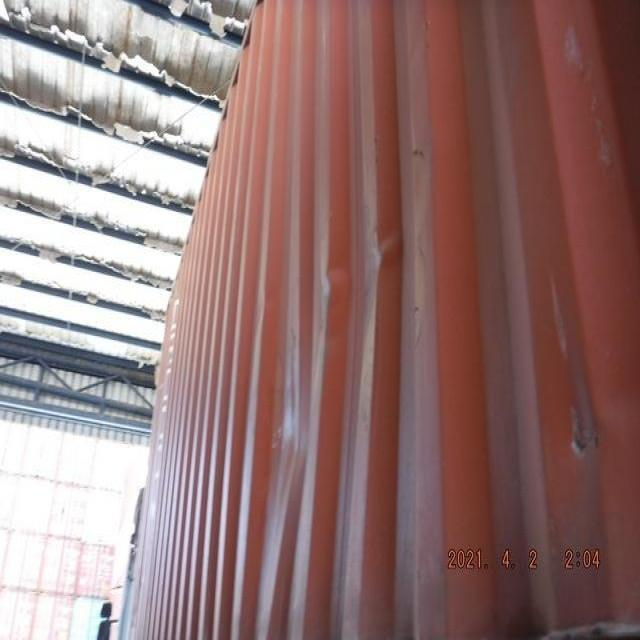Dent: (246, 299, 352, 553)
